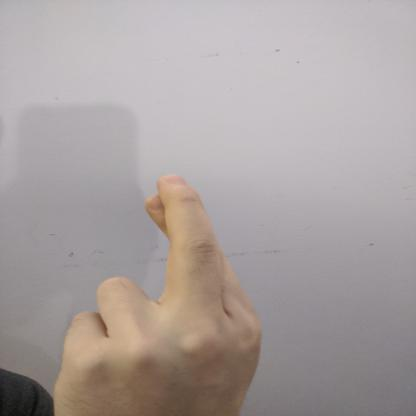R: (46, 169, 267, 415)
